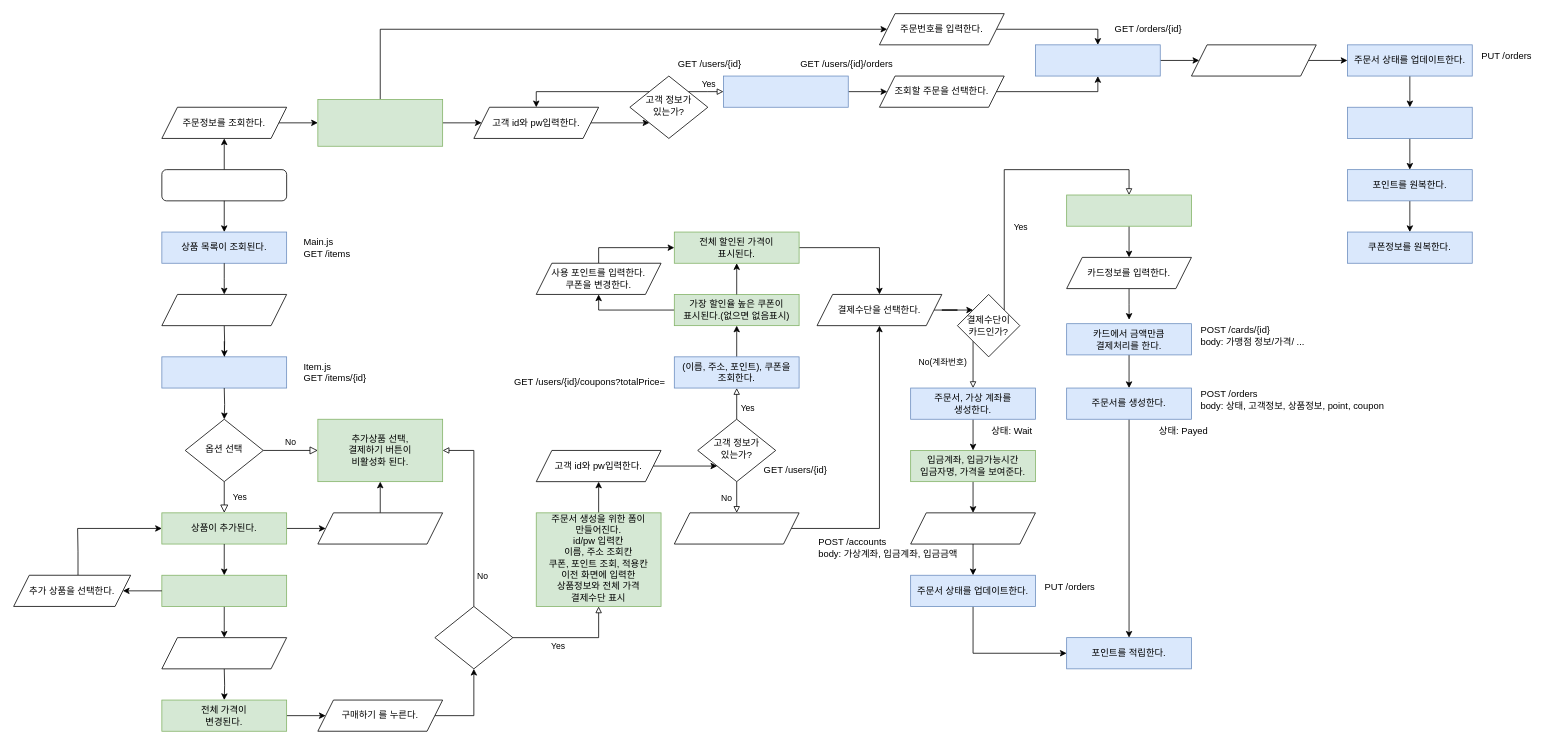
Image size: 1556x745. Some labels were removed from this diagram. Each missing label, with the centre of its shape:
결제정보를 환불한다.: [1409,122]
계좌이체를 완료한다.: [972,528]
고객이 쇼핑몰에 접속한다.: [224,185]
고객이 옵션을 선택했는가?: [473,637]
고객이름, 주소를 입력한다.: [736,528]
상품/추가 상품의 수량을 변경한다.: [224,653]
상품을 삭제한다.: [380,528]
상품을 선택한다.: [224,310]
상품정보, 옵션, 추가상품이 조회된다.: [224,372]
주문서 목록을 조회한다.: [785,91]
주문서 조회를 위한 폼이 만들어진다. id/pw 입력칸, 주문번호칸: [380,122]
주문서를 조회한다.: [1097,60]
주문을 취소한다.: [1253,60]
추가상품을 선택할 수 있다. 결제버튼이 활성화 된다.: [224,590]
카드입력폼을 보여준다.: [1128,210]
